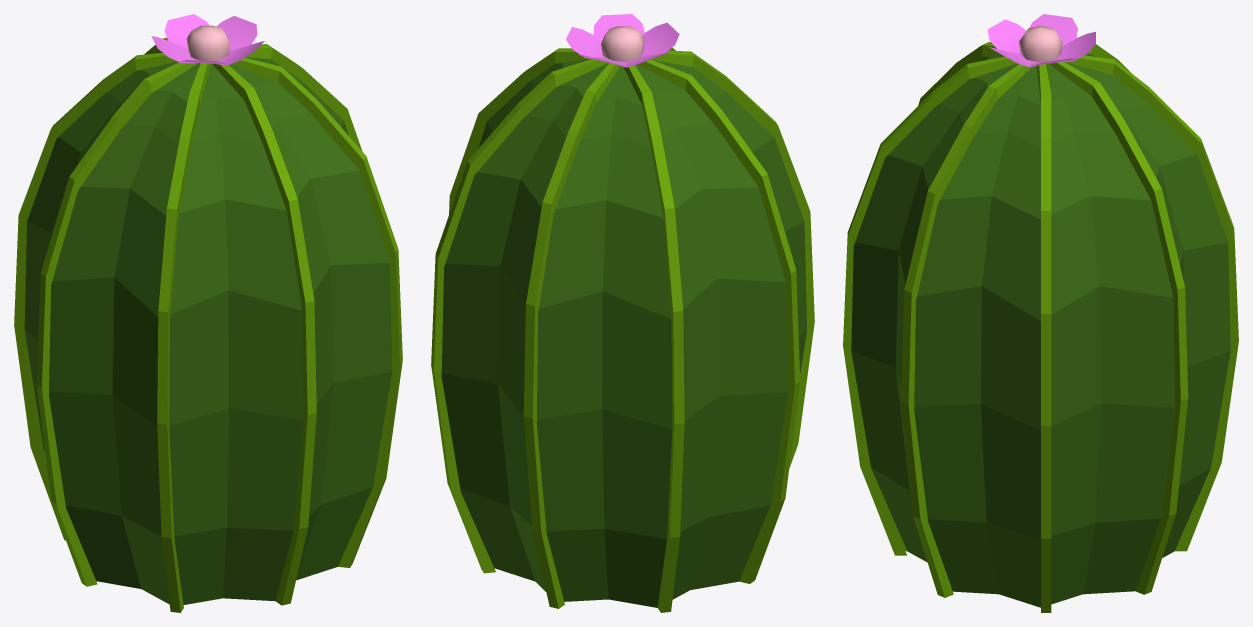
The model's file is Cactus_21_A.fbx.
3 views of the same model, side by side, from view 1: azimuth 30°, elevation 25°; view 2: azimuth 150°, elevation 25°; view 3: azimuth 270°, elevation 25° (orthographic).
Visible parts, largest first — view 1: Cactus_21_A; view 2: Cactus_21_A; view 3: Cactus_21_A.
Boxes of the visible parts, x1,y1,x2,y2 form: Cactus_21_A: (14,14,402,612); Cactus_21_A: (431,14,814,612); Cactus_21_A: (843,14,1238,612).
Size of the model in its own units: 108 by 158 by 108.
